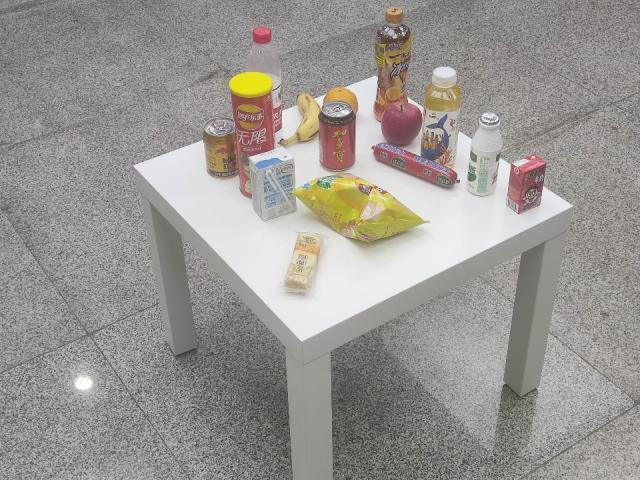Canned_drinks: (316, 100, 358, 174), (203, 116, 241, 180)
bottle: (242, 26, 283, 137), (421, 67, 463, 169), (375, 8, 413, 116)
cylinder: (227, 72, 277, 197)
drink_box: (241, 145, 306, 224), (500, 152, 551, 216)
